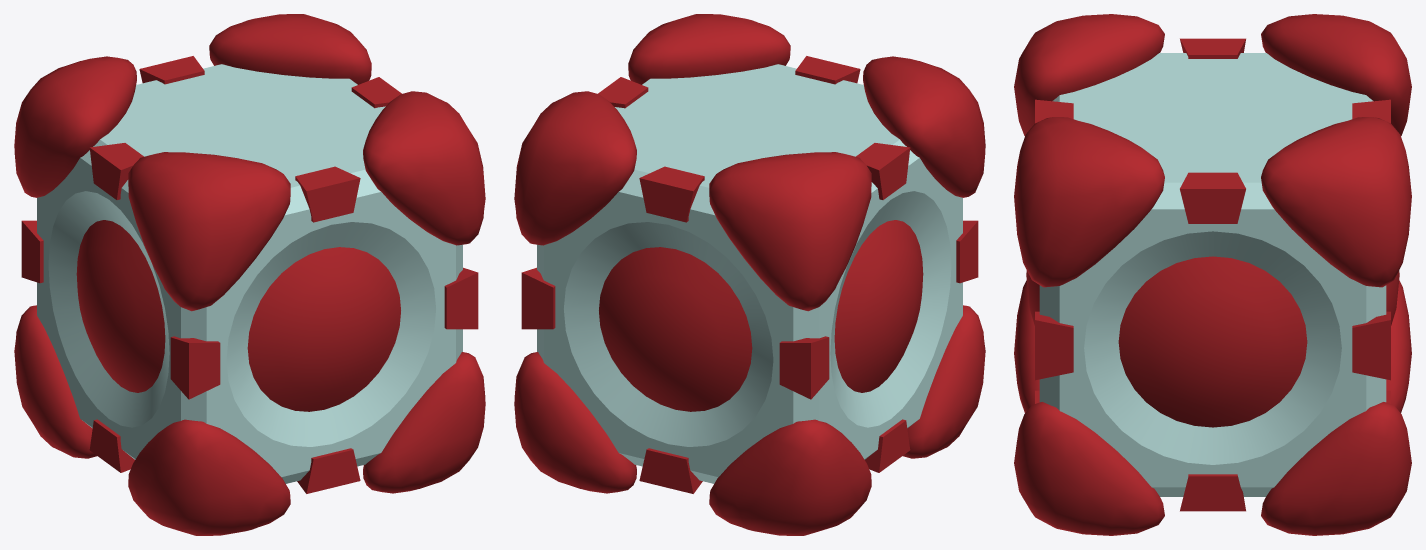
File: EnemyScared_v1.fbx
3 renders of one model, left to right at view 1: azimuth 30°, elevation 25°; view 2: azimuth 150°, elevation 25°; view 3: azimuth 270°, elevation 25°, orthographic. The views are drawn at different scales.
Visible parts, largest first — view 1: Cube, Body-Enemy-Scared, Face.001, Face, SmallSpike, SmallSpike.001, SmallSpike.002; view 2: Cube, Body-Enemy-Scared, Face.001, Face, SmallSpike, SmallSpike.001, SmallSpike.002; view 3: Cube, Body-Enemy-Scared, Face, SmallSpike.002, SmallSpike, SmallSpike.001, Face.001.
Part boxes in pixels (<box>): Cube: <box>14,14,485,535</box>; Body-Enemy-Scared: <box>37,64,462,483</box>; Face.001: <box>247,247,400,411</box>; Face: <box>76,220,165,392</box>; SmallSpike: <box>21,220,478,399</box>; SmallSpike.001: <box>139,56,360,493</box>; SmallSpike.002: <box>89,77,401,472</box>; Cube: <box>514,14,985,535</box>; Body-Enemy-Scared: <box>537,64,962,483</box>; Face.001: <box>599,247,752,411</box>; Face: <box>834,220,923,392</box>; SmallSpike: <box>521,220,978,399</box>; SmallSpike.001: <box>639,56,860,493</box>; SmallSpike.002: <box>598,77,910,472</box>; Cube: <box>1014,14,1411,535</box>; Body-Enemy-Scared: <box>1039,53,1386,496</box>; Face: <box>1118,256,1307,427</box>; SmallSpike.002: <box>1180,38,1245,511</box>; SmallSpike: <box>1035,311,1390,380</box>; SmallSpike.001: <box>1035,99,1390,403</box>; Face.001: <box>1026,270,1399,325</box>.
Size of the model in its own units: 230 by 250 by 230.
